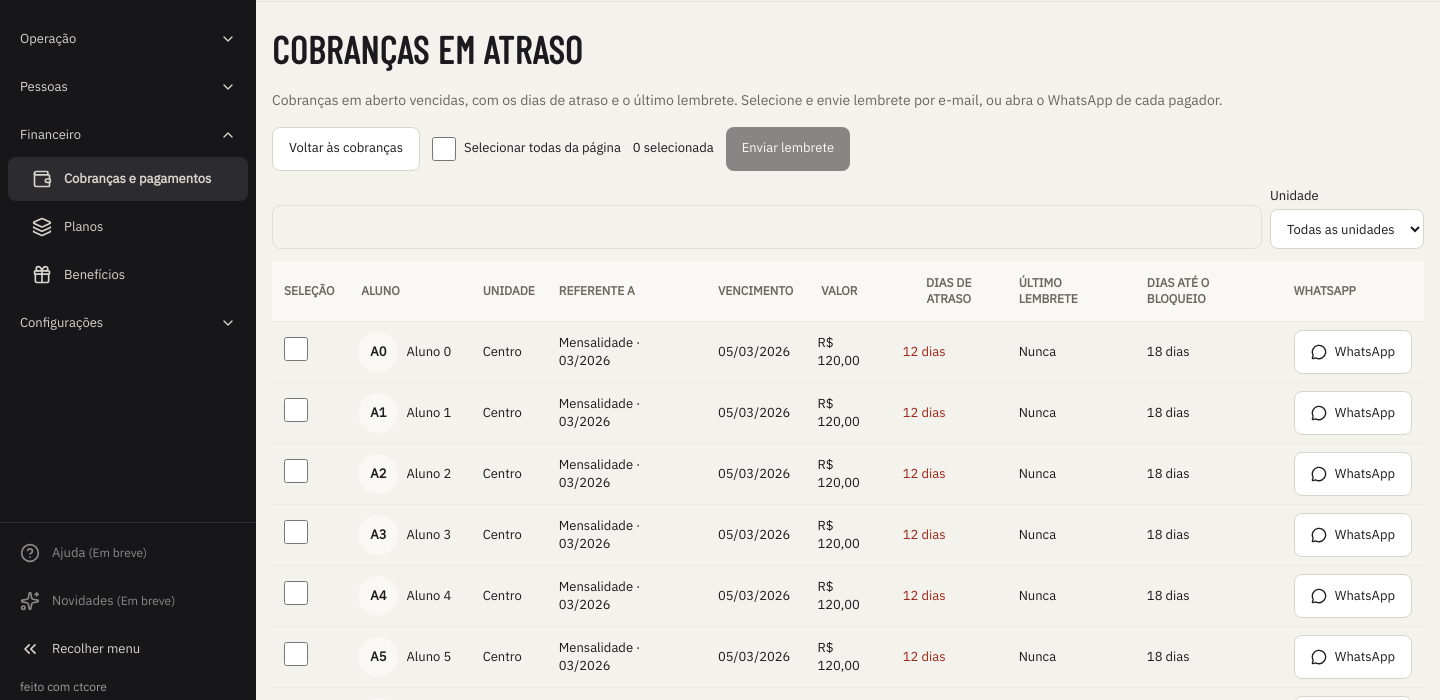
Test case: OverduePage (RF-COB-06) › CA26: mais de 100 selecionadas desabilita o envio e avisa
This screenshot has width=1440, height=700.
Click the checkbox labelled "Selecionar todas da página": [444, 148] box [432,136,456,160]
(page scrolled)
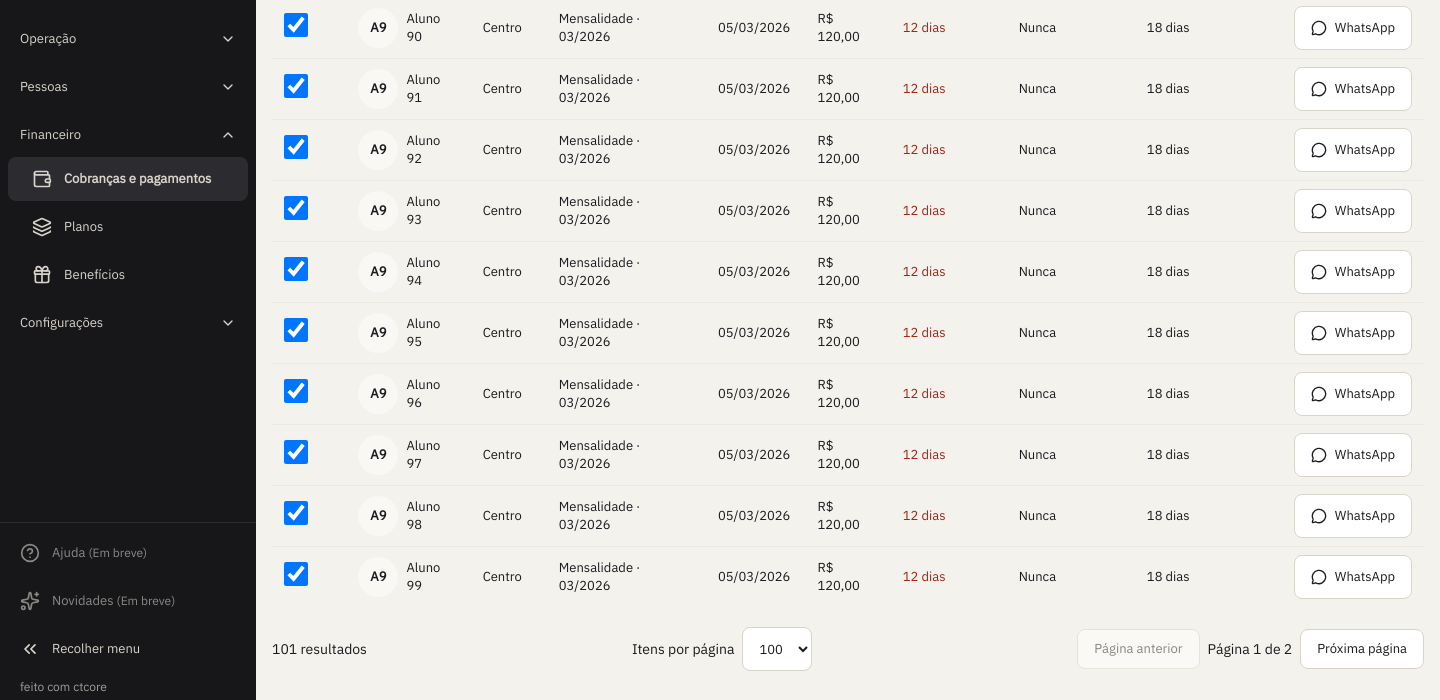
Click the button "Próxima página": [1362, 649] box [1300,629,1424,669]
(page scrolled)
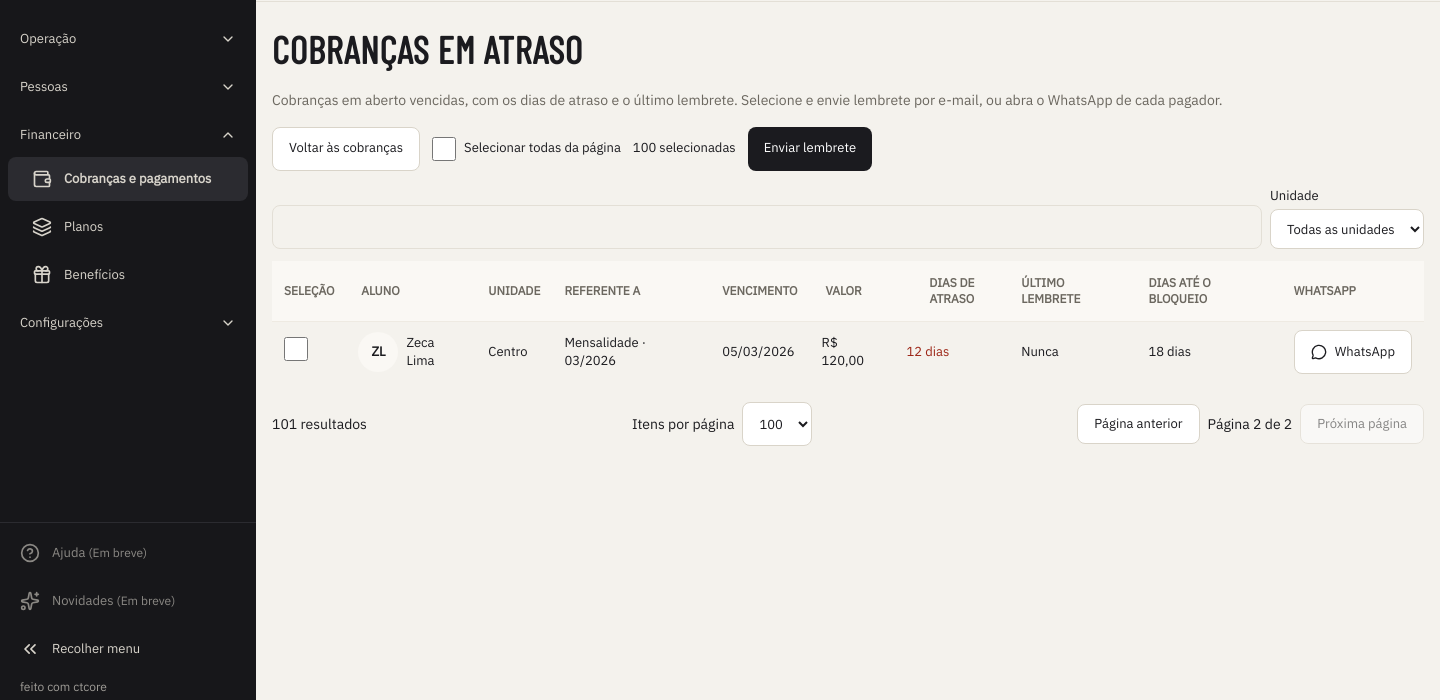
Click the checkbox named "Selecionar Zeca Lima": [296, 349] box [284,337,308,361]
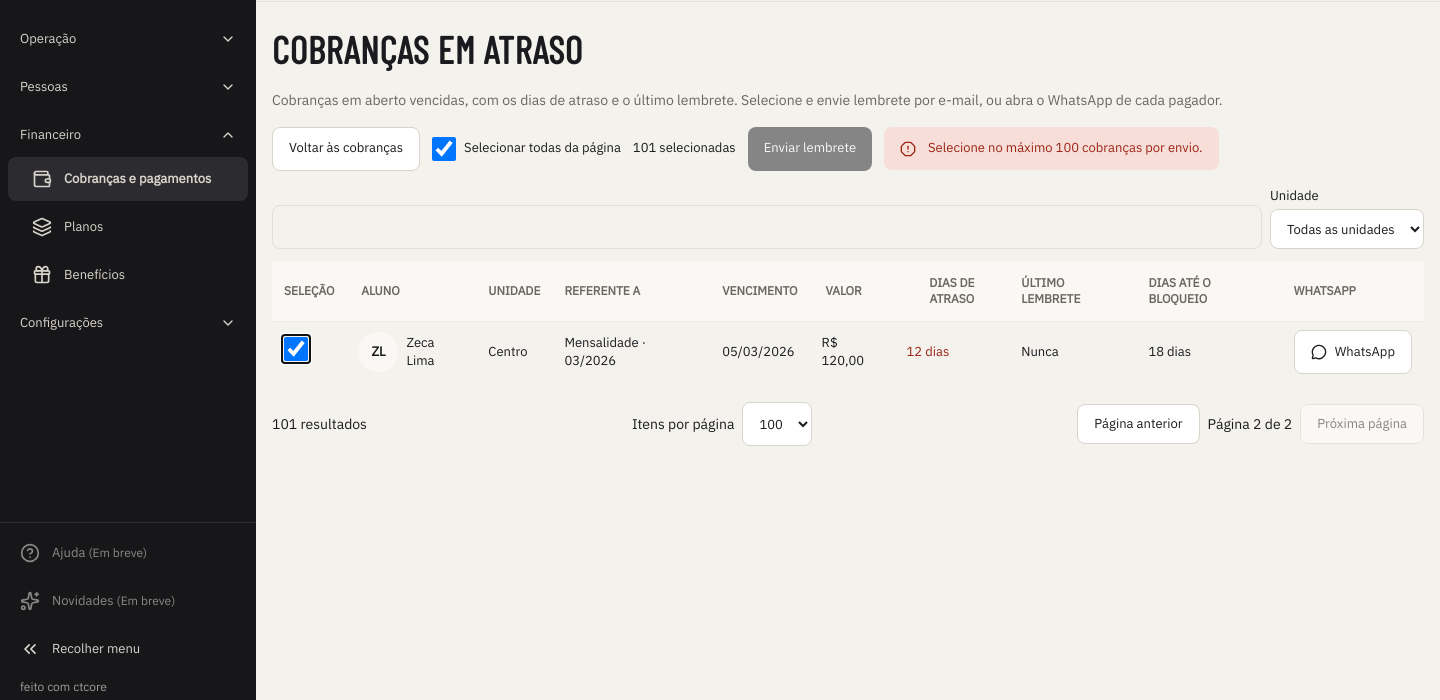
Now the message shows "no máximo 100", box [928,139,1202,156]
Now the button "Enviar lembrete" is disabled, box [748,126,872,170]
